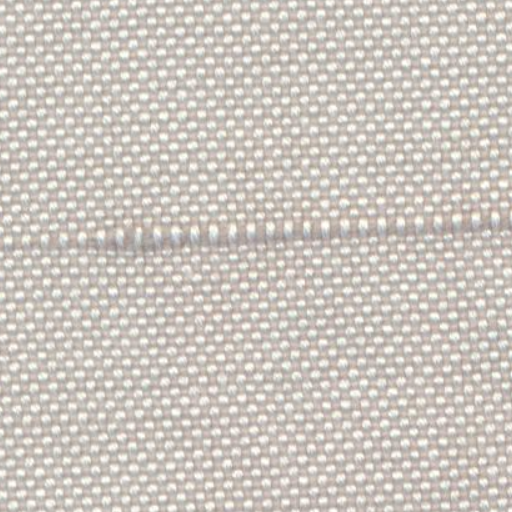DaiSha: (29, 200, 504, 259)
